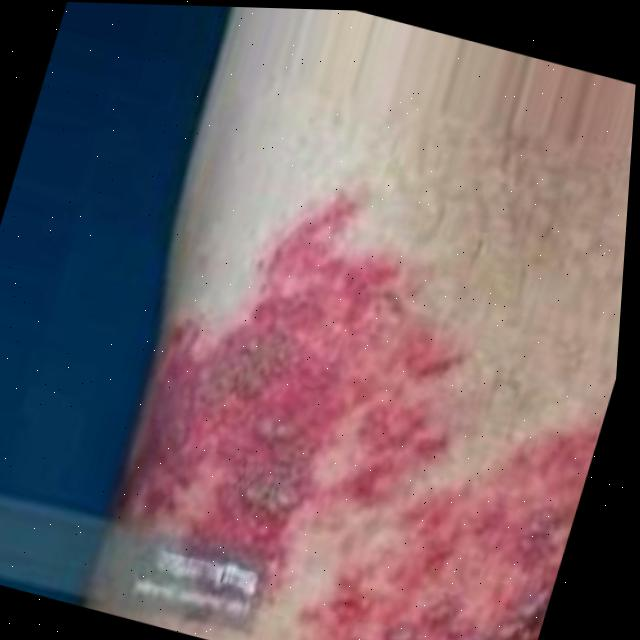Shingles: (61, 153, 630, 640)
